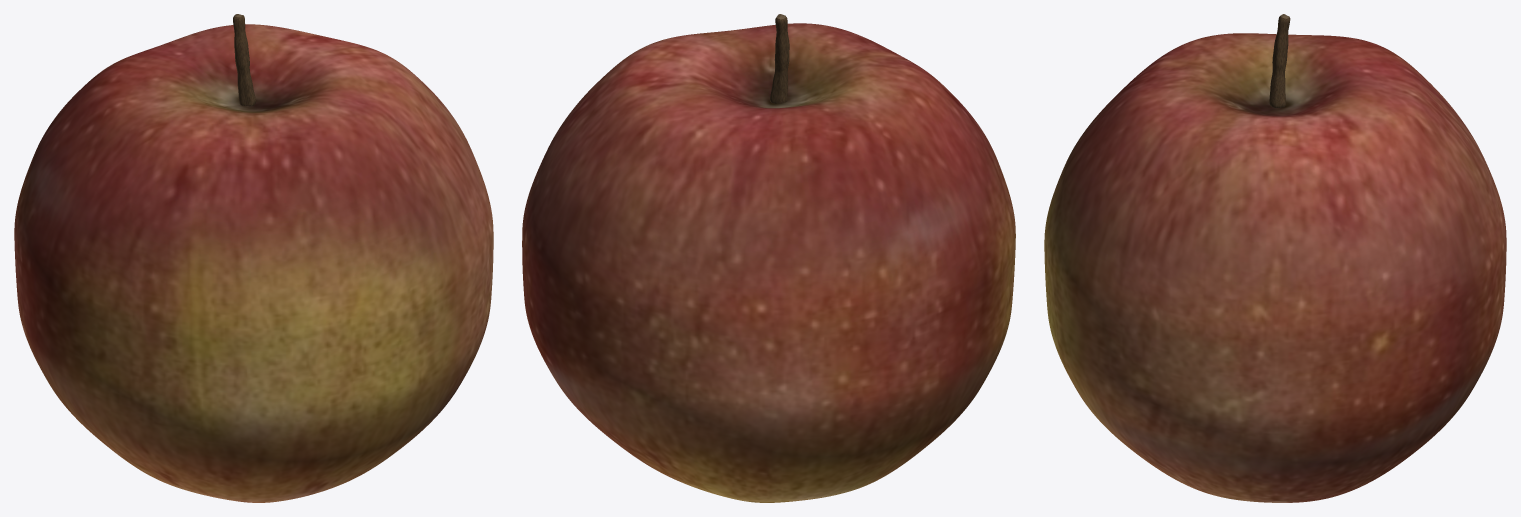
Rendered from apple-web.glb.
3 renders of one model, left to right at view 1: azimuth 30°, elevation 25°; view 2: azimuth 150°, elevation 25°; view 3: azimuth 270°, elevation 25°, orthographic. The views are drawn at different scales.
Parts seen in each view (by area): view 1: Apple_Body, Apple_Stem; view 2: Apple_Body, Apple_Stem; view 3: Apple_Body, Apple_Stem.
Boxes of the visible parts, x1,y1,x2,y2 form: Apple_Body: [14, 24, 493, 502]; Apple_Stem: [233, 14, 255, 106]; Apple_Body: [522, 23, 1015, 502]; Apple_Stem: [770, 14, 789, 103]; Apple_Body: [1044, 33, 1506, 502]; Apple_Stem: [1269, 14, 1290, 107].
Bounding box in the file's own units: 0.0842 × 0.0875 × 0.0809.
Materials: 4 (3 with a texture image).
